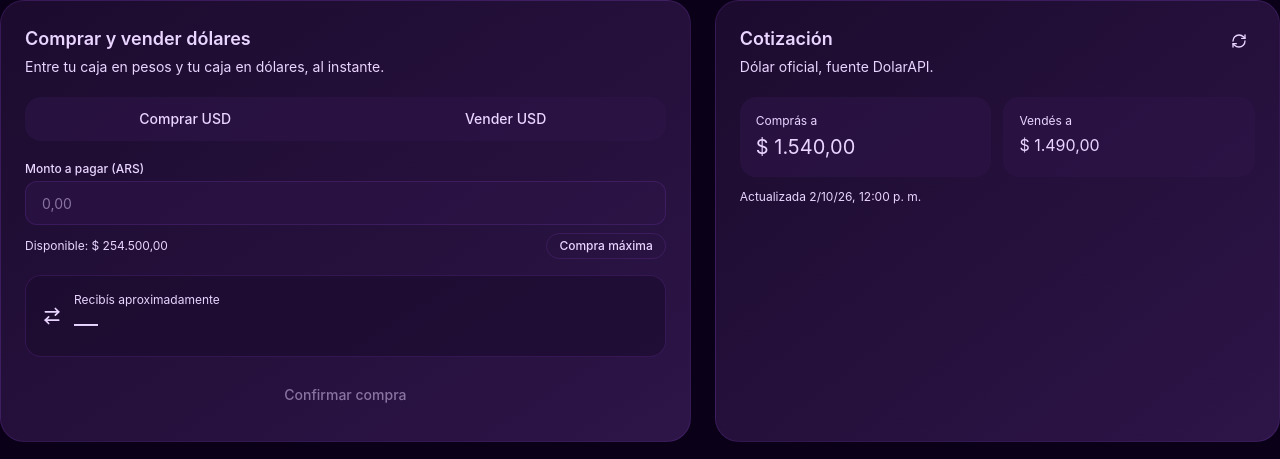
Test: compra y venta máxima › al vender usa el saldo en dólares, no el de pesos
Click the button "Vender USD" at (506, 119), box [349,101,662,137]
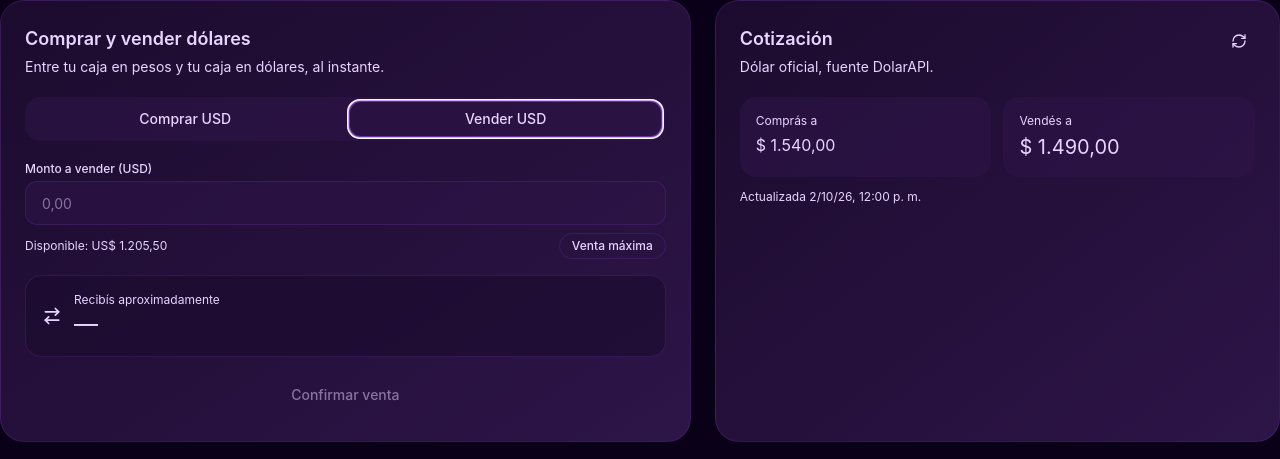
Click the button "Venta máxima" at (612, 246), box [559,233,666,259]
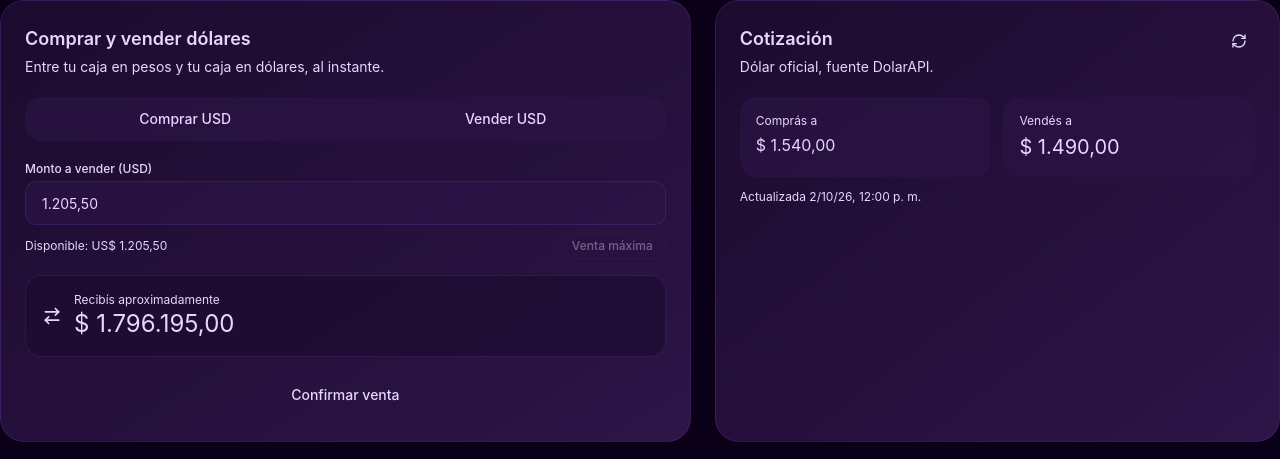
Result: the field with placeholder "0,00" holds "1.205,50" at [25,181,666,225]
